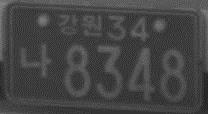3: (97, 44, 123, 99), (107, 15, 126, 41)
4: (128, 47, 156, 102), (130, 16, 151, 42)
8: (62, 43, 91, 97), (160, 50, 187, 103)
강원_O: (58, 13, 103, 37)
나: (19, 44, 51, 77)
